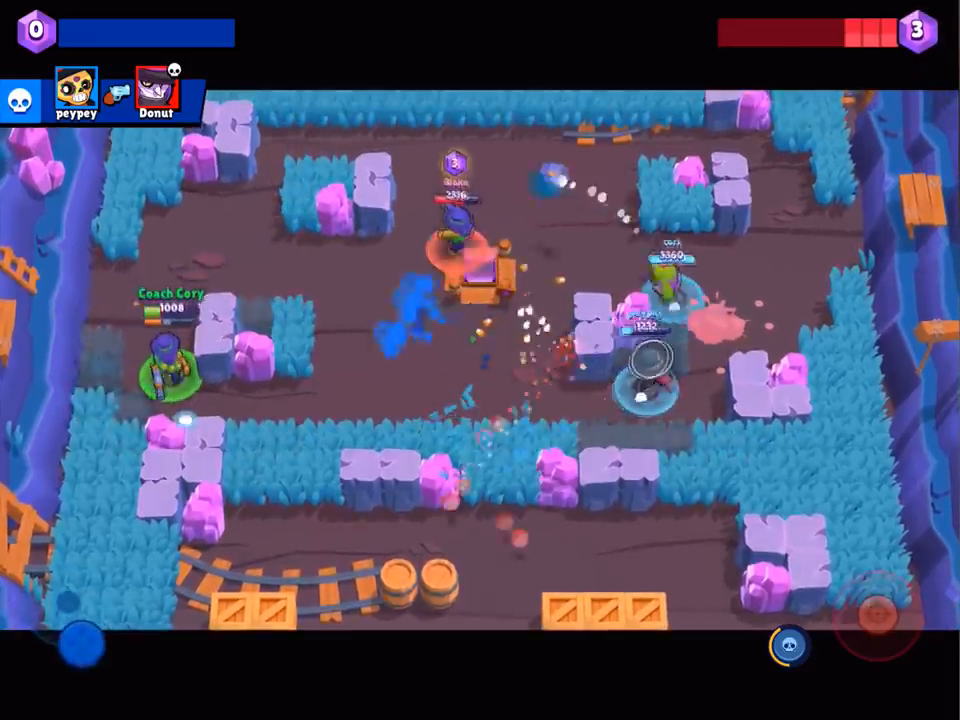move_stick: (62, 617, 109, 668)
red: (433, 184, 480, 289)
